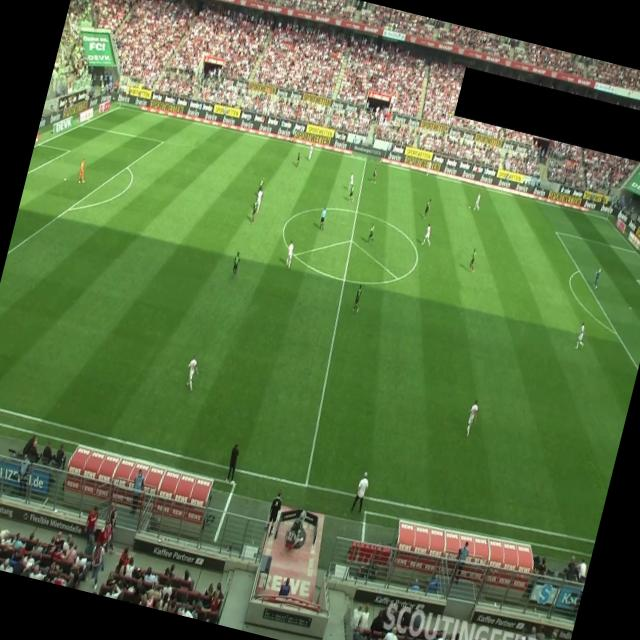ball: (466, 204, 471, 210)
goalkeeper: (76, 157, 90, 184), (591, 265, 602, 289)
player: (182, 353, 202, 392), (462, 397, 481, 438), (574, 320, 588, 350), (229, 250, 242, 280), (283, 239, 296, 269), (351, 284, 364, 312), (466, 246, 479, 274), (421, 222, 435, 248), (252, 185, 264, 213), (366, 220, 378, 244), (248, 198, 259, 223), (346, 182, 358, 204), (422, 197, 432, 219), (472, 192, 482, 212), (256, 175, 266, 195), (370, 164, 380, 183), (347, 172, 356, 190), (306, 142, 314, 160), (294, 149, 302, 166), (425, 160, 432, 177)
referee: (317, 205, 328, 231), (288, 125, 297, 143)
